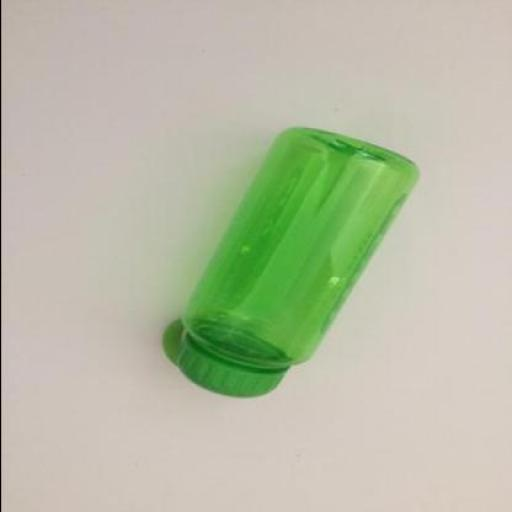plastic: (198, 128, 420, 368), (161, 320, 289, 399)
